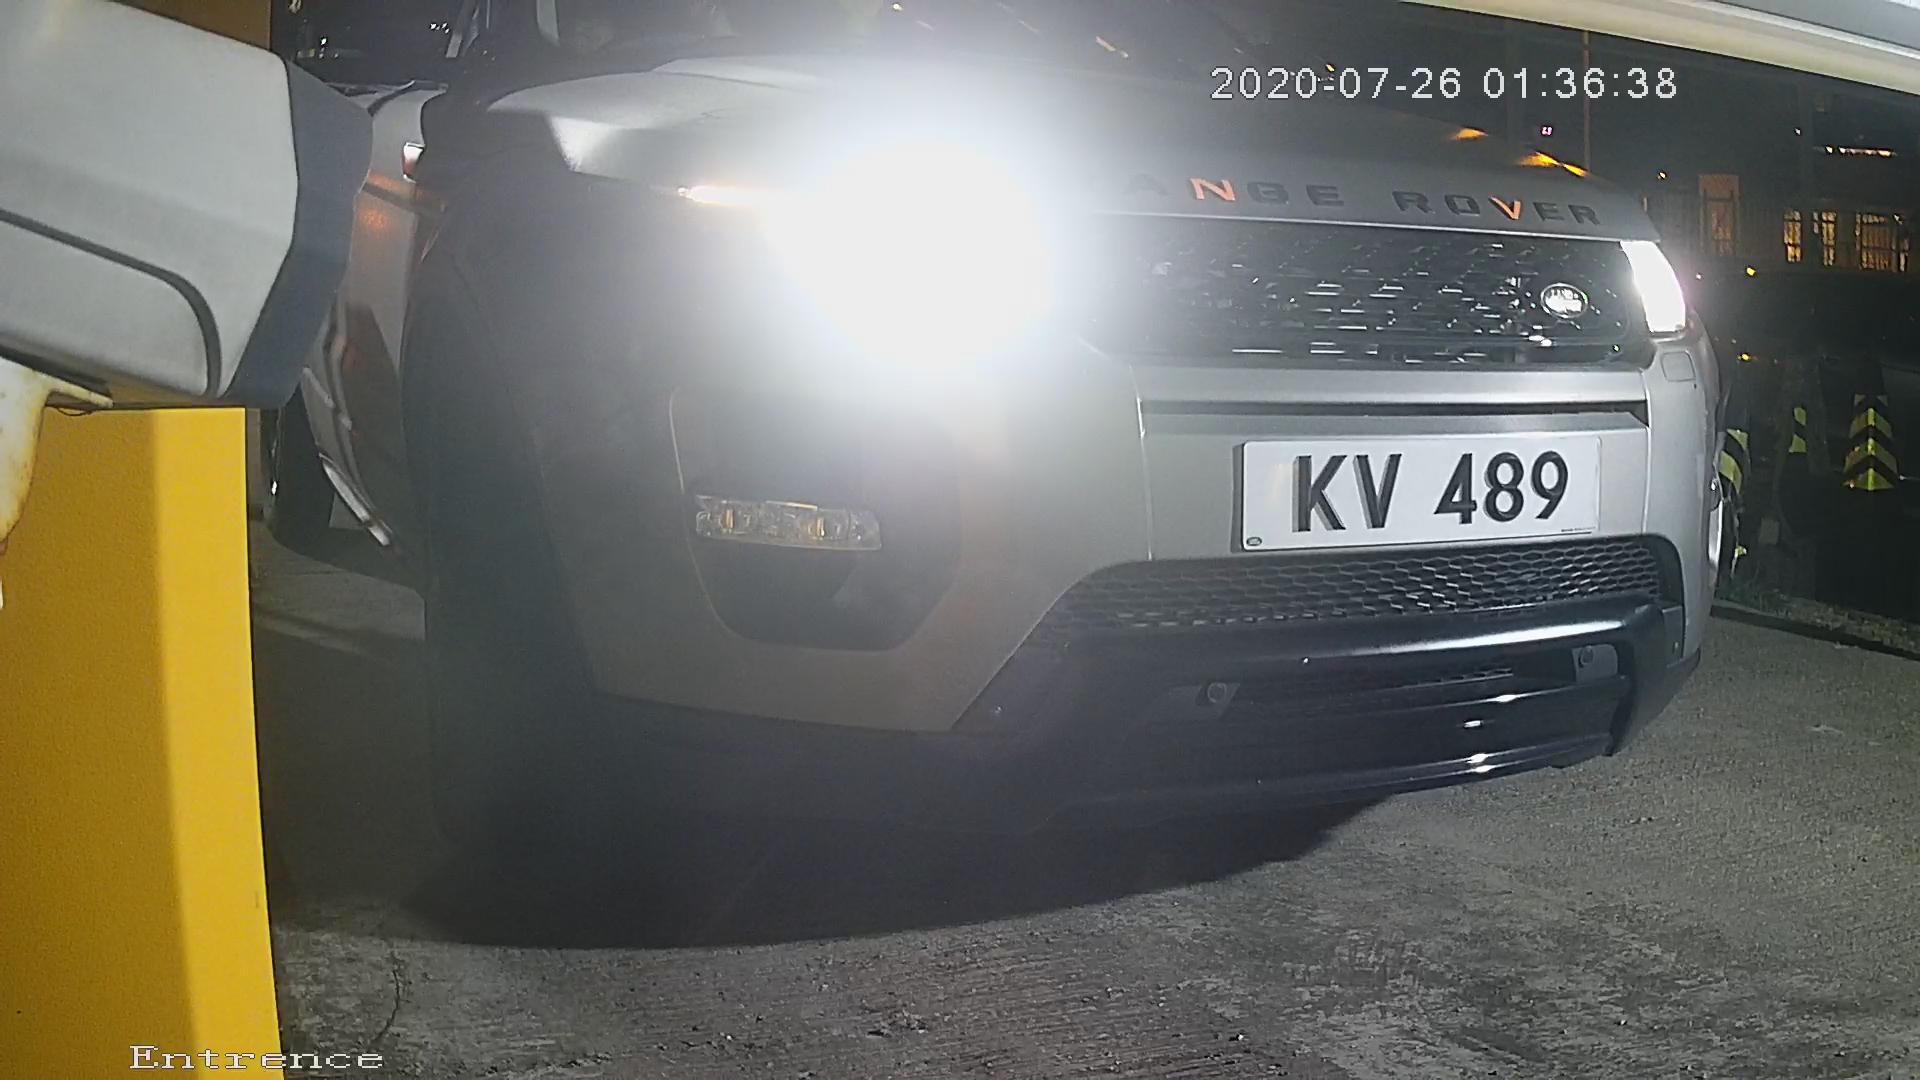Car: (138, 1, 1869, 878)
License Plate: (1209, 406, 1629, 569)
